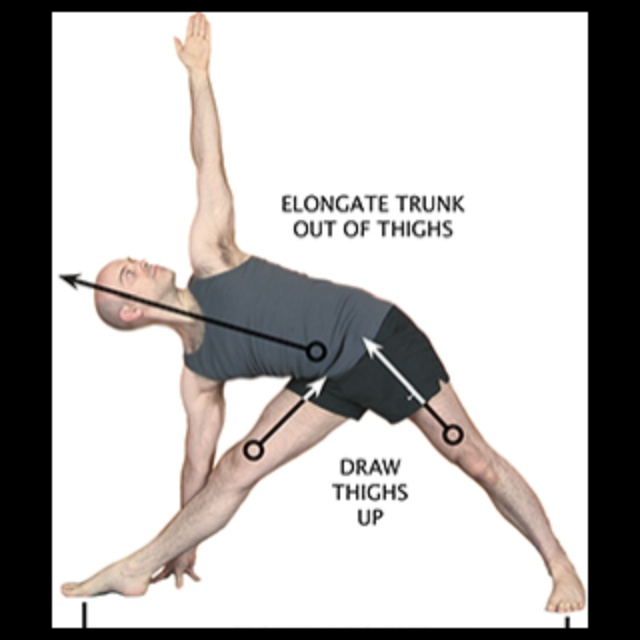Triangle_Pose: (61, 14, 590, 613)
